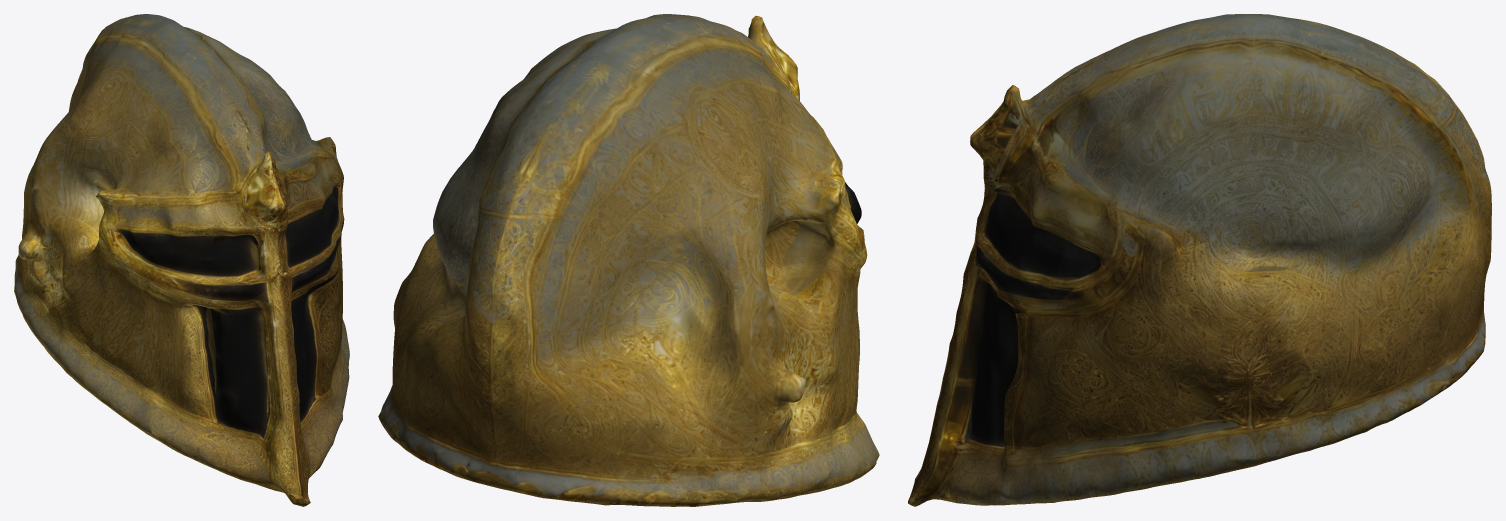
The model's file is The_golden_helmet_of_the_holy_knight_Radiant_with_holy_energ_0627083211_refine.fbx.
3 views of the same model, side by side, from view 1: azimuth 30°, elevation 25°; view 2: azimuth 150°, elevation 25°; view 3: azimuth 270°, elevation 25° (orthographic). The views are drawn at different scales.
Visible parts, largest first — view 1: Mesh_0; view 2: Mesh_0; view 3: Mesh_0.
Boxes of the visible parts, box(x1,y1,x2,y2) form: Mesh_0: box(14, 14, 349, 506); Mesh_0: box(378, 14, 879, 506); Mesh_0: box(908, 14, 1491, 506).
Size of the model in its own units: 87.31 by 111 by 120.
1 material, 1 textured.
